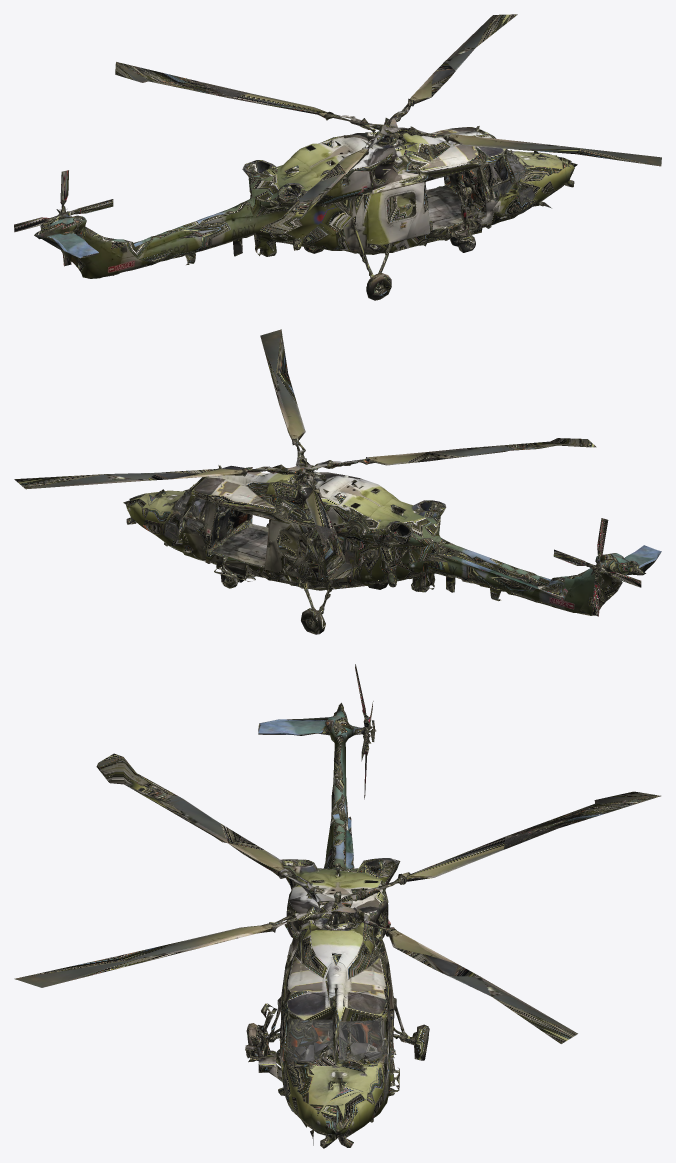
Rendered from lynx_helicopter.glb.
The picture shows the model from 3 angles, top to bottom: view 1: azimuth 30°, elevation 25°; view 2: azimuth 150°, elevation 25°; view 3: azimuth 270°, elevation 25°; orthographic projection. The views are drawn at different scales.
Visible parts, largest first — view 1: LynxHelicopter; view 2: LynxHelicopter; view 3: LynxHelicopter.
Part boxes in pixels (bbox=[...]): LynxHelicopter: bbox=[14, 14, 661, 300]; LynxHelicopter: bbox=[14, 329, 661, 634]; LynxHelicopter: bbox=[14, 664, 660, 1148].
Bounding box in the file's own units: 0.4049 × 0.1132 × 0.3023.
2 materials, 1 textured.
